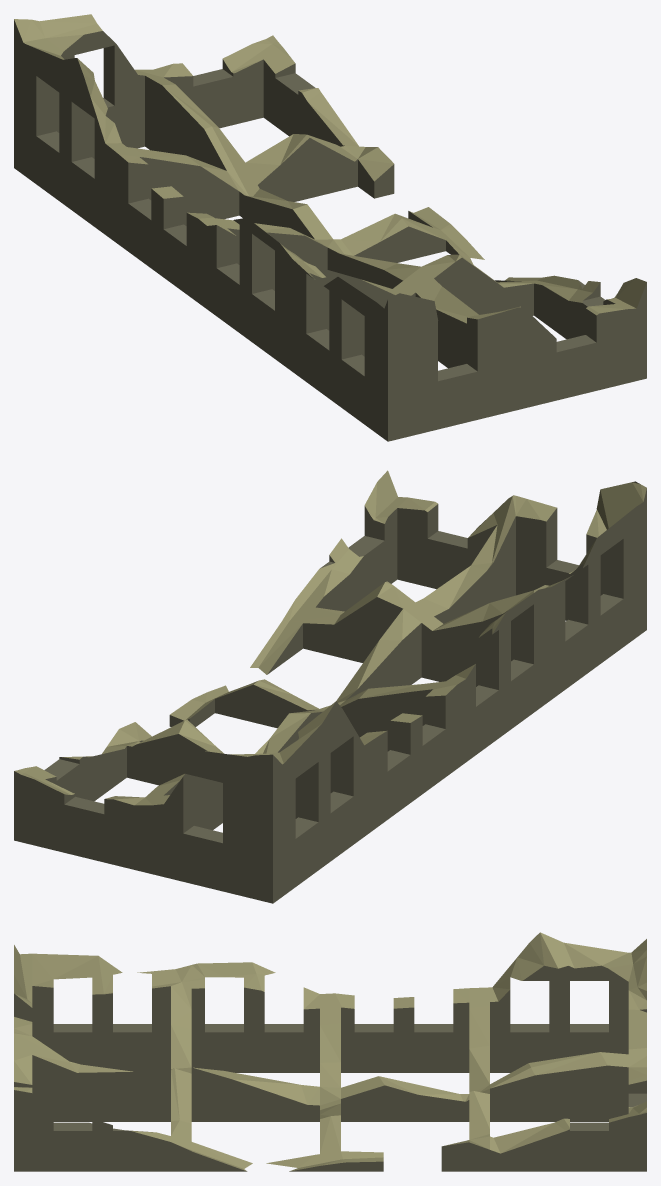
Rendered from Buildings 4.fbx.
3 renders of one model, top to bottom at view 1: azimuth 30°, elevation 25°; view 2: azimuth 150°, elevation 25°; view 3: azimuth 270°, elevation 25°, orthographic. The views are drawn at different scales.
Visible parts, largest first — view 1: Buildings 4; view 2: Buildings 4; view 3: Buildings 4.
Part boxes in pixels (<box>): Buildings 4: <box>14,14,646,441</box>; Buildings 4: <box>14,470,646,903</box>; Buildings 4: <box>14,932,646,1171</box>.
Bounding box in the file's own units: 487 × 281 × 1219.
